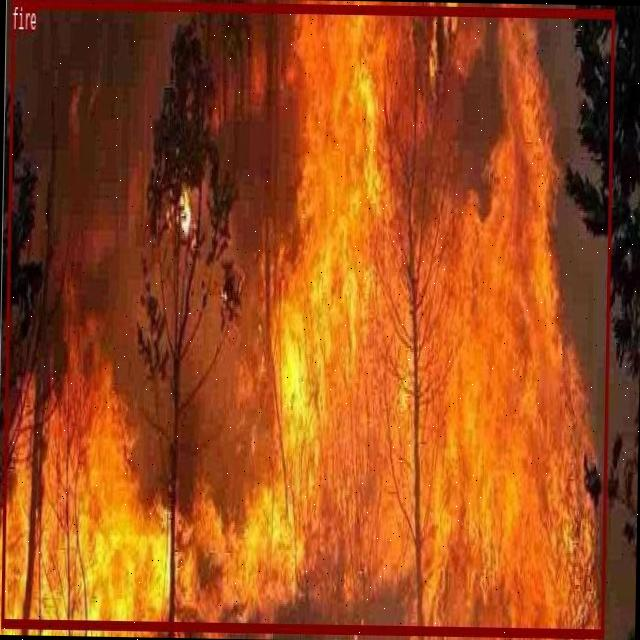fire: (0, 0, 613, 636)
